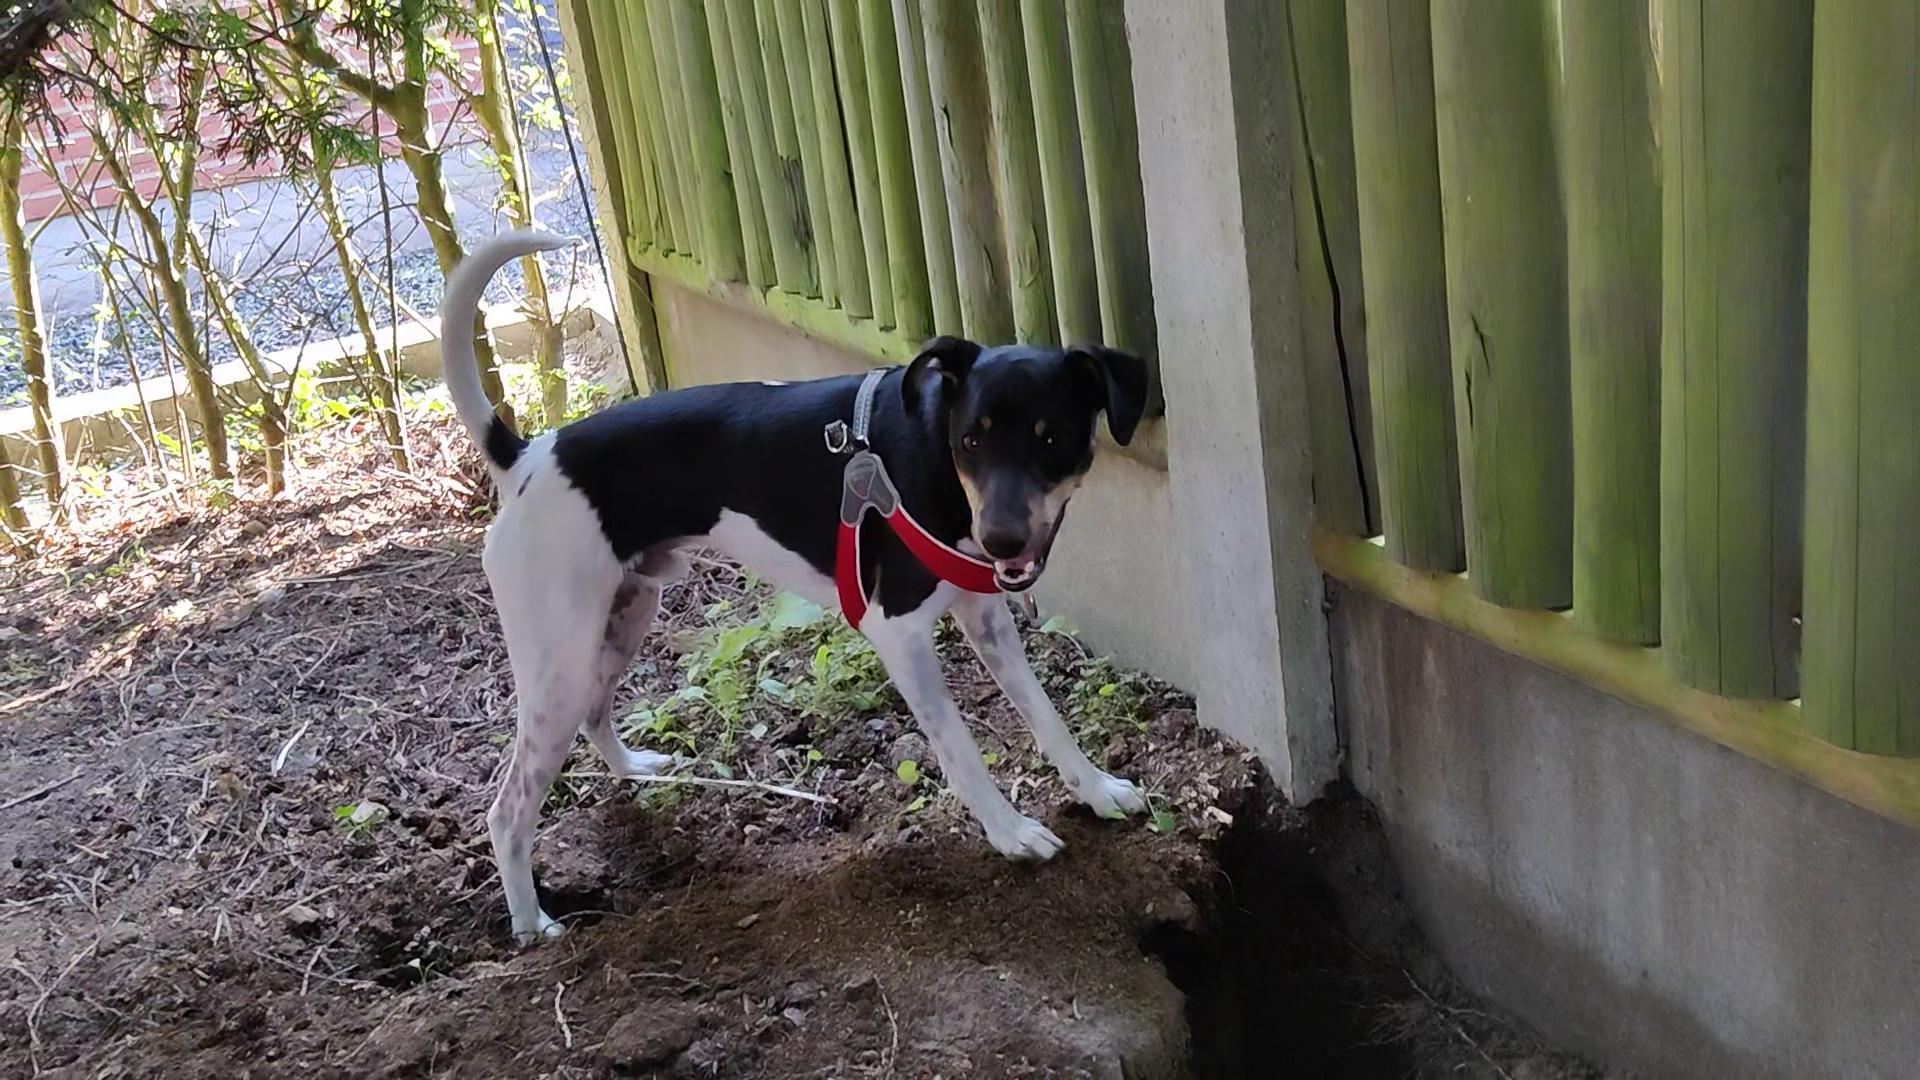Dog: (407, 212, 1207, 968)
